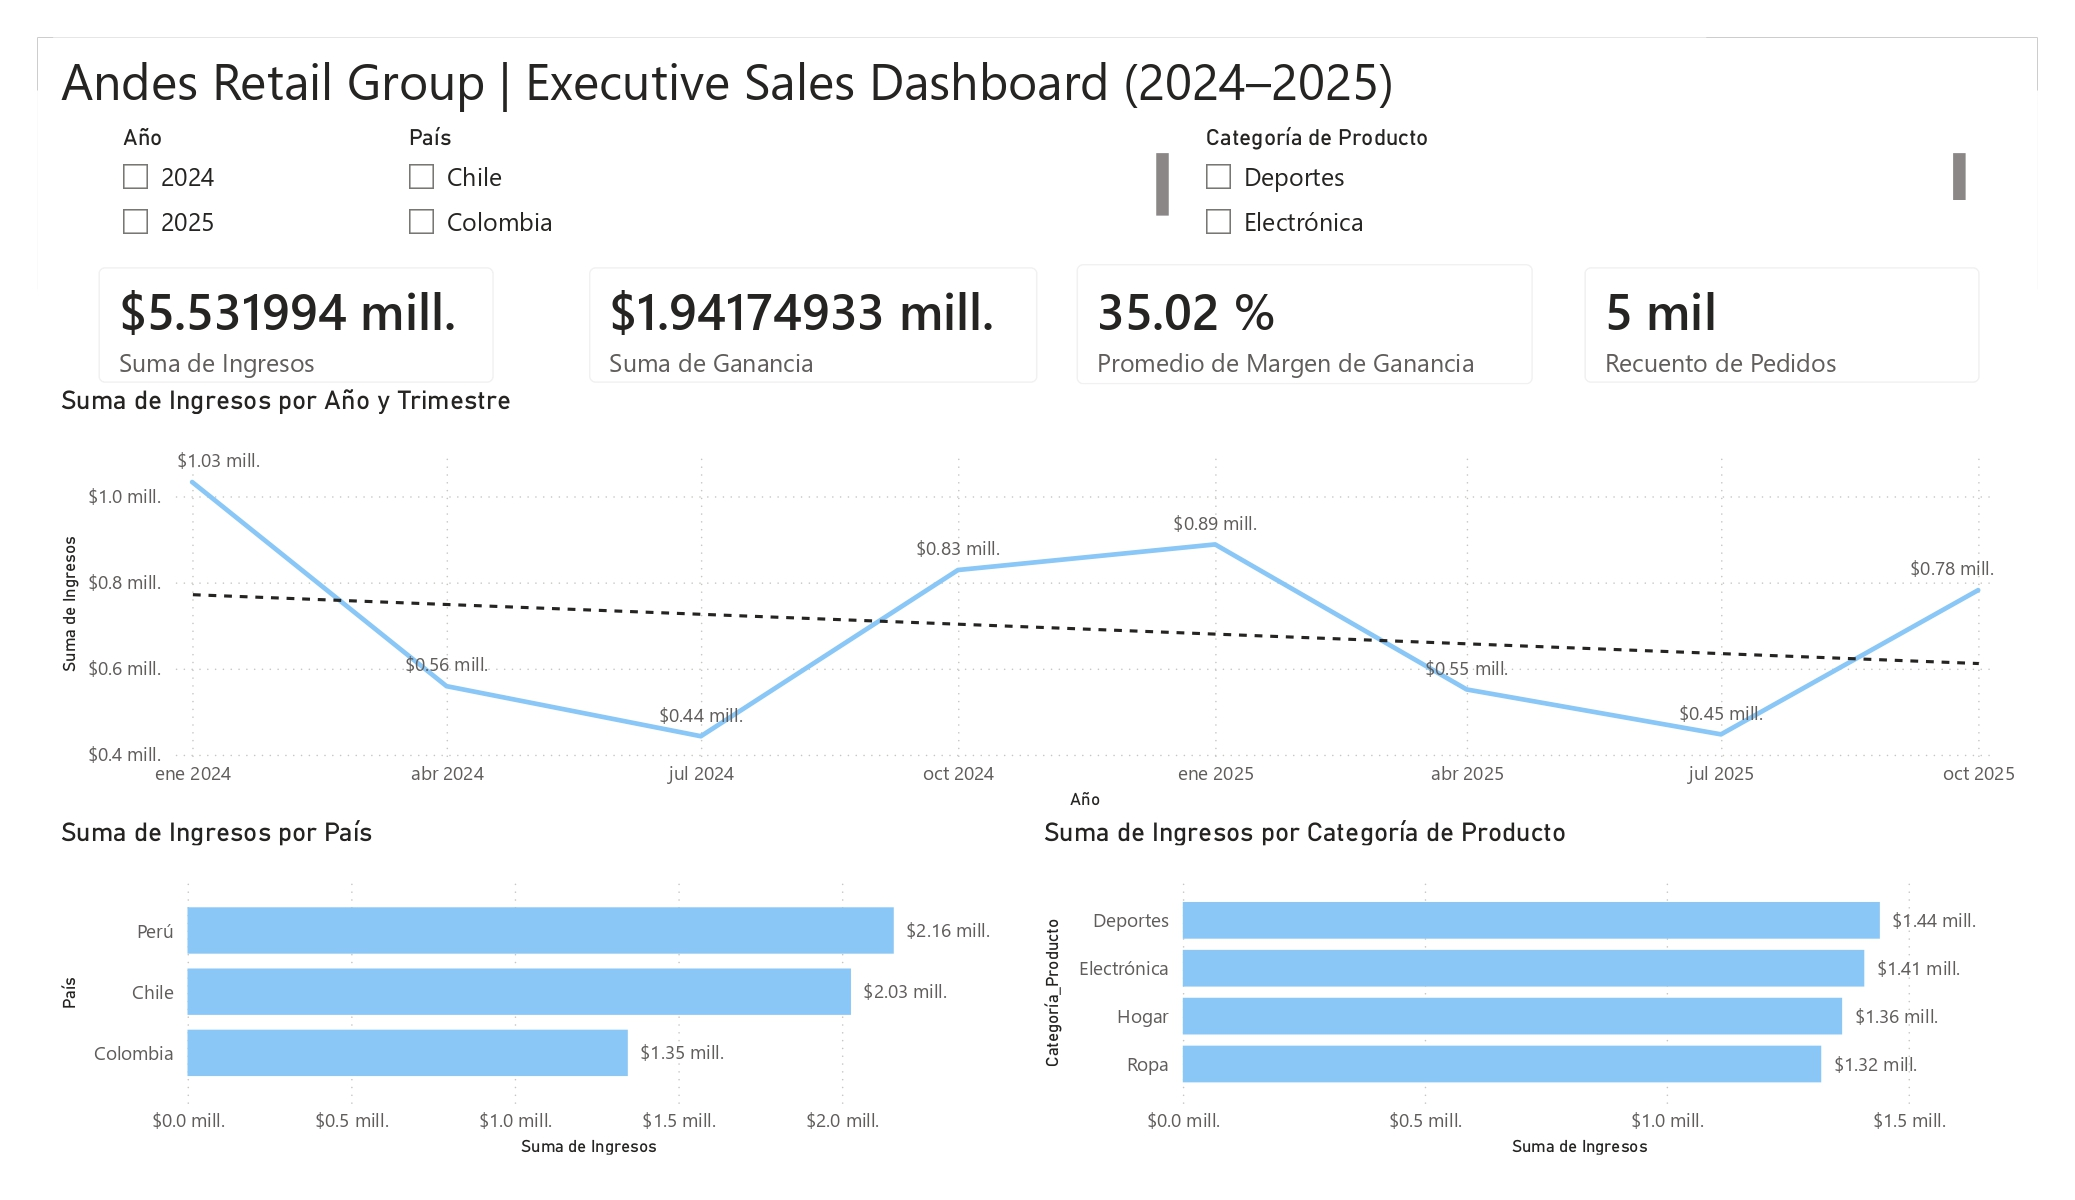

Layout of this report page (visuals, bound fields, positions):
{"tool":"powerbi","page":{"name":"Vista 1","canvas":[1280,720],"ordinal":0},"visuals":[{"type":"textbox","box":[10.1,0,1058.3,57.1],"z":0},{"type":"cardVisual","fields":{"Data":["Sum(Andes_Retail_Group_2024_2025.Ganancia)"]},"box":[335.8,130.6,320.9,108],"z":0,"group":"g2"},{"type":"group","id":"g1","title":"Grupo 1","box":[41.8,51.4,1196.6,86.4],"z":1000},{"type":"slicer","fields":{"Values":["Andes_Retail_Group_2024_2025.Fecha_Pedido.Variación.Jerarquía de fechas.Año"]},"box":[41.8,51.4,176.4,87.3],"z":1000,"group":"g1"},{"type":"cardVisual","fields":{"Data":["Avg(Andes_Retail_Group_2024_2025.Margen_Ganancia)"]},"box":[647.9,128.3,325.7,111.4],"z":1000,"group":"g2"},{"type":"slicer","fields":{"Values":["Andes_Retail_Group_2024_2025.País"]},"box":[224.3,51.9,504,86.4],"z":2000,"group":"g1"},{"type":"cardVisual","fields":{"Data":["Sum(Andes_Retail_Group_2024_2025.Ingresos)"]},"box":[21.6,130.6,287.3,108],"z":2000,"group":"g2"},{"type":"slicer","fields":{"Values":["Andes_Retail_Group_2024_2025.Categoría_Producto"]},"box":[734.4,51.9,504,86.4],"z":3000,"group":"g1"},{"type":"cardVisual","fields":{"Data":["Count(Andes_Retail_Group_2024_2025.ID_Pedido)"]},"box":[972.7,130.6,287.3,108],"z":3000,"group":"g2"},{"type":"group","id":"g2","title":"Grupo 2","box":[21.6,128.3,1238.4,111.4],"z":3500},{"type":"lineChart","fields":{"Y":["Sum(Andes_Retail_Group_2024_2025.Ingresos)"],"Category":["Andes_Retail_Group_2024_2025.Fecha_Pedido.Variación.Jerarquía de fechas.Año","Andes_Retail_Group_2024_2025.Fecha_Pedido.Variación.Jerarquía de fechas.Trimestre"]},"box":[10.1,221.8,1260,276.5],"z":3750},{"type":"clusteredBarChart","fields":{"Category":["Andes_Retail_Group_2024_2025.País"],"Y":["Sum(Andes_Retail_Group_2024_2025.Ingresos)"]},"box":[10,498.2,629.3,221.8],"z":4000,"group":"g3"},{"type":"clusteredBarChart","title":"Suma de Ingresos por Categoría de Producto","fields":{"Category":["Andes_Retail_Group_2024_2025.Categoría_Producto"],"Y":["Sum(Andes_Retail_Group_2024_2025.Ingresos)"]},"box":[638.9,498,631,222],"z":5000,"group":"g3"},{"type":"group","id":"g3","title":"Grupo 3","box":[10,498,1259.9,222],"z":5001}]}

Visuals, with their boxes on the page's 1280x720 design canvas (x1, y1, x2, y2). These are canvas units, not pixel positions in the 2075x1200 screenshot, which may show the page scaled, cropped or inside an application window:
textbox: (left=10, top=0, right=1068, bottom=57)
cardVisual - Sum(Andes_Retail_Group_2024_2025.Ganancia): (left=336, top=131, right=657, bottom=239)
"Grupo 1" group: (left=42, top=51, right=1238, bottom=138)
slicer - Andes_Retail_Group_2024_2025.Fecha_Pedido.Variación.Jerarquía de fechas.Año: (left=42, top=51, right=218, bottom=139)
cardVisual - Avg(Andes_Retail_Group_2024_2025.Margen_Ganancia): (left=648, top=128, right=974, bottom=240)
slicer - Andes_Retail_Group_2024_2025.País: (left=224, top=52, right=728, bottom=138)
cardVisual - Sum(Andes_Retail_Group_2024_2025.Ingresos): (left=22, top=131, right=309, bottom=239)
slicer - Andes_Retail_Group_2024_2025.Categoría_Producto: (left=734, top=52, right=1238, bottom=138)
cardVisual - Count(Andes_Retail_Group_2024_2025.ID_Pedido): (left=973, top=131, right=1260, bottom=239)
"Grupo 2" group: (left=22, top=128, right=1260, bottom=240)
lineChart - Sum(Andes_Retail_Group_2024_2025.Ingresos) x Andes_Retail_Group_2024_2025.Fecha_Pedido.Variación.Jerarquía de fechas.Año: (left=10, top=222, right=1270, bottom=498)
clusteredBarChart - Andes_Retail_Group_2024_2025.País x Sum(Andes_Retail_Group_2024_2025.Ingresos): (left=10, top=498, right=639, bottom=720)
"Suma de Ingresos por Categoría de Producto" clusteredBarChart: (left=639, top=498, right=1270, bottom=720)
"Grupo 3" group: (left=10, top=498, right=1270, bottom=720)
